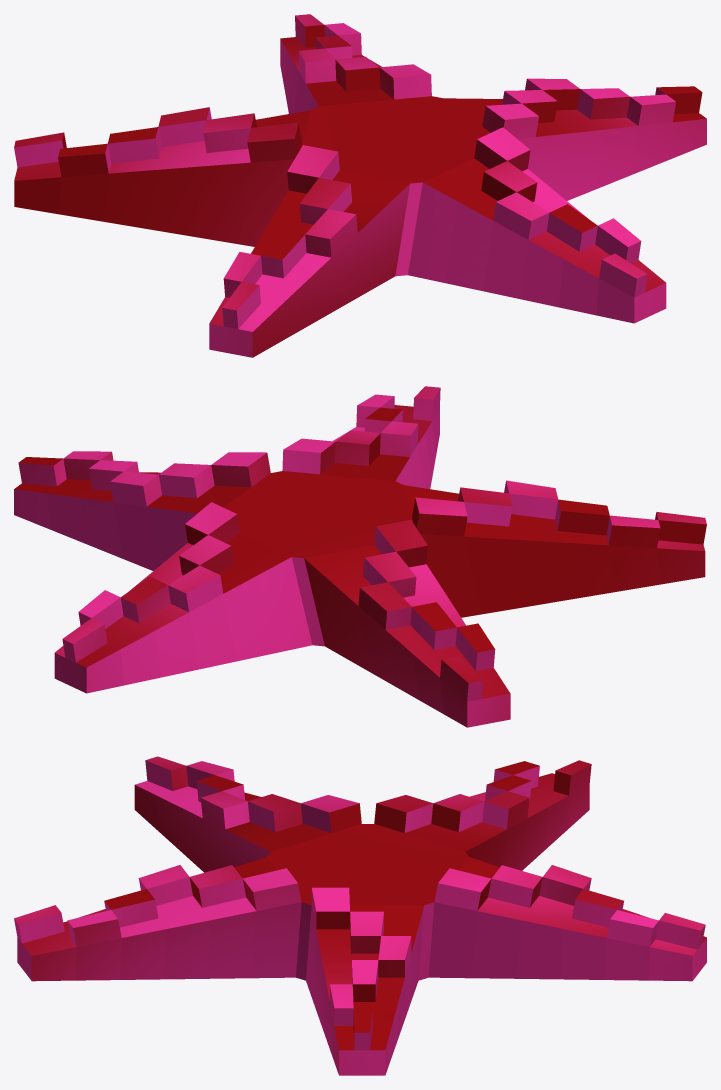
Rendered from star.fbx.
3 views of the same model, one above another, from view 1: azimuth 30°, elevation 25°; view 2: azimuth 150°, elevation 25°; view 3: azimuth 270°, elevation 25° (orthographic). The views are drawn at different scales.
Visible parts, largest first — view 1: Cylinder; view 2: Cylinder; view 3: Cylinder.
Boxes of the visible parts, x1,y1,x2,y2 form: Cylinder: (14, 14, 706, 357); Cylinder: (14, 386, 706, 727); Cylinder: (14, 756, 706, 1075).
Size of the model in its own units: 448 by 77.43 by 470.
1 material, 1 textured.
